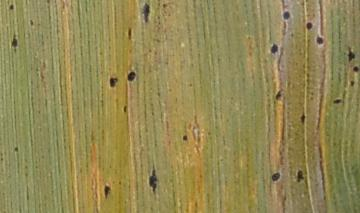tarspot: (146, 165, 159, 197), (141, 1, 152, 24), (345, 45, 357, 64), (101, 183, 113, 201), (295, 165, 305, 186), (268, 40, 280, 57), (268, 169, 282, 183), (124, 69, 138, 83), (107, 74, 119, 90), (10, 34, 19, 51), (298, 110, 307, 126), (126, 26, 135, 41), (314, 35, 325, 47), (304, 19, 314, 32), (330, 97, 344, 106), (274, 87, 283, 101), (121, 102, 129, 116), (282, 10, 291, 22), (159, 1, 169, 10), (27, 17, 35, 28), (12, 145, 21, 154), (349, 79, 357, 89), (181, 134, 189, 144), (6, 4, 16, 10), (352, 66, 360, 73)
